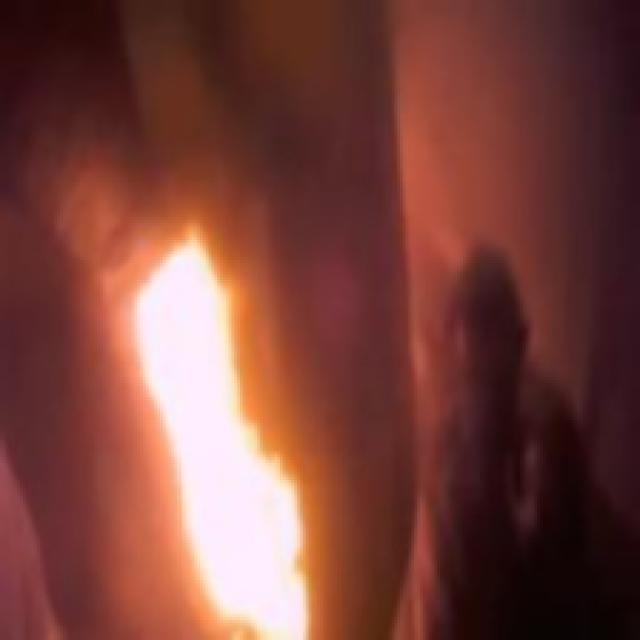fire: (150, 236, 301, 633)
